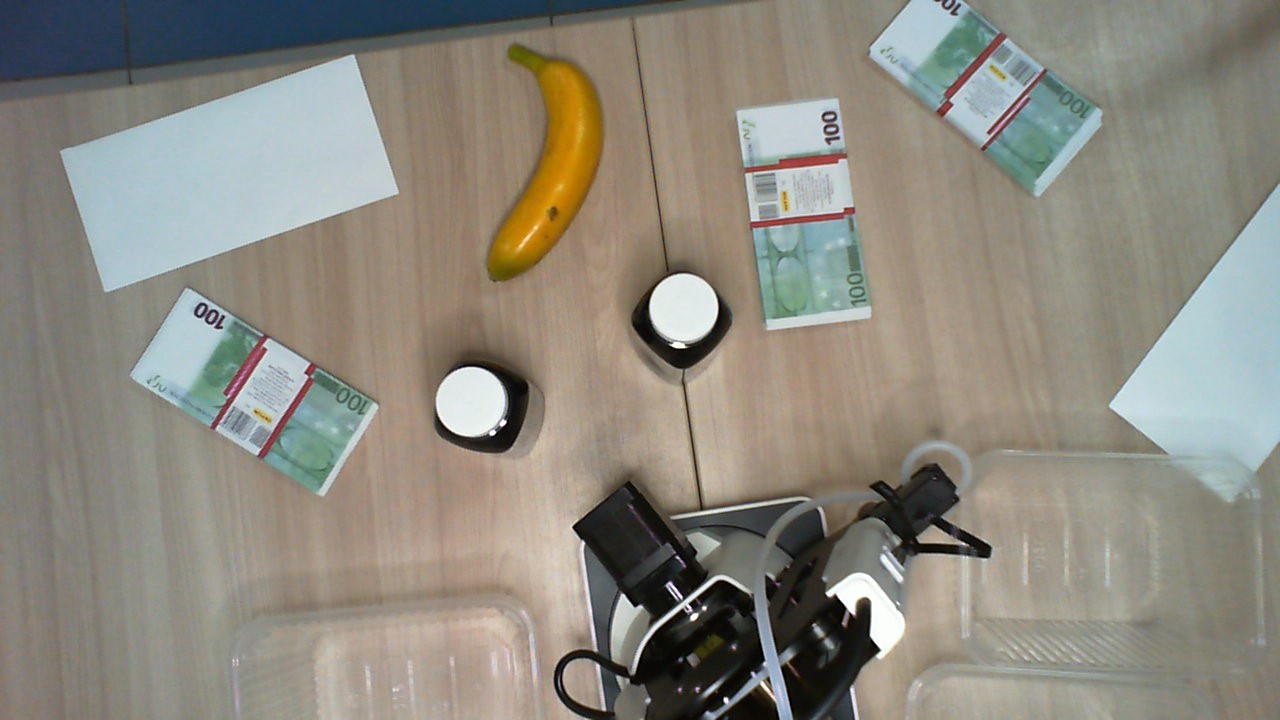banana: (479, 41, 608, 285)
bottle: (635, 269, 732, 366), (432, 360, 521, 452)
convert: (59, 50, 398, 295), (1108, 172, 1280, 500)
money: (128, 285, 381, 495), (868, 1, 1105, 195), (738, 100, 871, 336)
